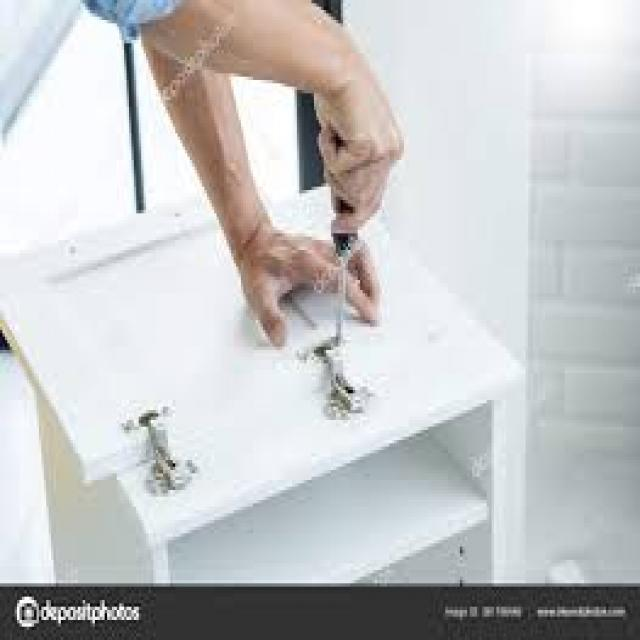screwdriver: (322, 136, 367, 354)
